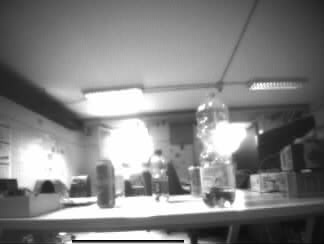Bottle: (198, 92, 235, 204), (151, 150, 170, 202)
Tin can: (96, 160, 114, 207), (189, 167, 201, 196)
